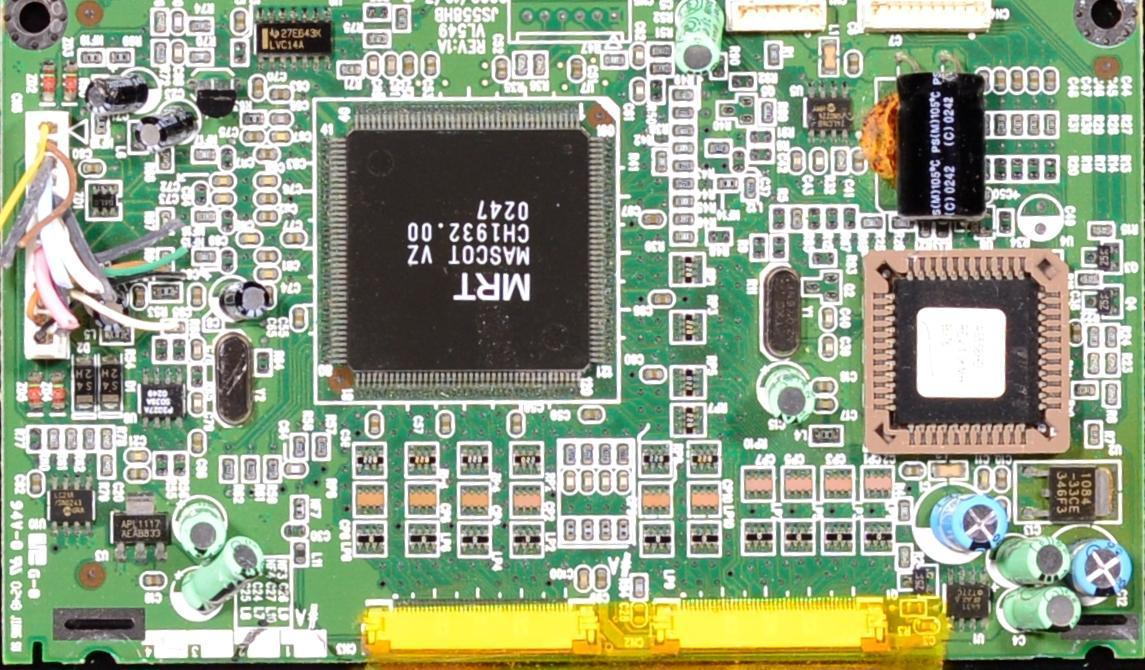Capacitor: (942, 493, 1008, 552), (1079, 540, 1132, 598), (177, 505, 229, 554), (1026, 534, 1070, 581), (134, 114, 172, 161), (1040, 588, 1080, 631), (679, 37, 718, 73), (82, 77, 116, 116), (228, 537, 263, 571), (509, 412, 523, 435), (643, 367, 664, 382), (190, 391, 203, 415), (367, 413, 381, 435), (1044, 68, 1056, 93), (284, 463, 307, 476), (790, 151, 804, 172), (977, 470, 991, 491), (142, 573, 163, 587), (1026, 70, 1040, 91), (633, 44, 645, 68), (1011, 68, 1023, 92), (992, 69, 1004, 93), (81, 162, 103, 175), (293, 307, 306, 329), (813, 381, 835, 394), (191, 432, 204, 454), (439, 414, 453, 434), (641, 213, 664, 225), (233, 11, 246, 32), (595, 568, 608, 589), (847, 53, 860, 74), (1072, 322, 1084, 344), (495, 57, 507, 79), (633, 80, 645, 102), (812, 150, 825, 170), (240, 232, 260, 245), (256, 174, 277, 186), (652, 292, 673, 304), (823, 308, 835, 329), (996, 469, 1008, 490), (30, 471, 42, 492), (285, 525, 306, 537), (979, 69, 989, 94), (255, 210, 277, 221), (172, 11, 183, 33), (257, 269, 279, 280), (814, 399, 836, 410), (172, 41, 183, 63), (823, 338, 835, 358), (403, 55, 415, 75), (424, 56, 436, 76), (853, 150, 864, 171), (212, 193, 233, 204), (257, 250, 278, 261), (133, 287, 144, 308), (580, 408, 601, 419), (903, 465, 924, 476), (128, 468, 149, 479), (270, 89, 291, 100), (386, 54, 396, 77), (192, 340, 204, 359), (270, 130, 290, 141), (244, 132, 264, 143), (258, 148, 278, 159), (282, 233, 304, 243), (577, 569, 588, 589), (368, 55, 379, 75), (571, 60, 582, 80), (191, 285, 201, 306), (128, 450, 147, 461), (213, 176, 233, 186), (257, 193, 277, 203), (253, 77, 262, 99)
IC: (806, 96, 848, 129)
Resistor: (750, 146, 775, 163), (749, 235, 766, 260), (731, 75, 756, 89), (749, 128, 772, 143), (1105, 324, 1118, 349), (189, 19, 212, 33), (222, 459, 236, 482), (648, 78, 663, 99), (365, 6, 389, 19), (82, 428, 95, 452), (153, 42, 166, 66), (768, 44, 782, 66), (897, 546, 911, 568), (811, 253, 836, 265), (835, 150, 848, 173), (994, 157, 1007, 180), (843, 207, 856, 230), (824, 207, 837, 230), (1089, 224, 1112, 237), (1075, 384, 1098, 397), (245, 457, 258, 480), (110, 51, 133, 64), (1028, 159, 1042, 180), (515, 54, 529, 75), (671, 232, 695, 244), (365, 33, 389, 45), (65, 428, 77, 452), (1087, 423, 1100, 445), (293, 435, 306, 457), (533, 53, 546, 75), (340, 63, 362, 76), (994, 114, 1006, 137), (773, 208, 785, 231), (672, 214, 695, 226), (672, 89, 695, 101), (1087, 327, 1100, 348), (1011, 157, 1023, 179), (396, 8, 408, 30), (673, 177, 695, 189), (808, 207, 820, 229), (861, 216, 883, 228), (892, 217, 914, 229), (1106, 383, 1118, 405), (47, 428, 59, 450), (267, 458, 279, 480), (734, 148, 744, 174), (718, 176, 738, 189), (671, 107, 694, 118), (1044, 115, 1056, 136), (155, 11, 167, 32), (1105, 352, 1117, 373), (29, 428, 41, 449), (899, 500, 911, 521), (634, 577, 646, 598), (763, 102, 774, 124), (1011, 113, 1022, 135), (101, 429, 112, 451), (316, 436, 327, 458), (189, 52, 211, 63), (649, 64, 671, 75), (652, 44, 670, 57), (674, 125, 695, 136), (673, 143, 694, 154), (1044, 158, 1055, 179), (673, 195, 694, 206), (1088, 353, 1099, 374), (102, 456, 113, 477), (1027, 115, 1038, 135), (656, 151, 667, 171), (720, 53, 729, 77), (604, 55, 625, 65), (673, 161, 692, 172), (708, 143, 728, 153)
Transistor: (912, 569, 927, 594), (1097, 245, 1112, 269), (1098, 290, 1111, 313)
